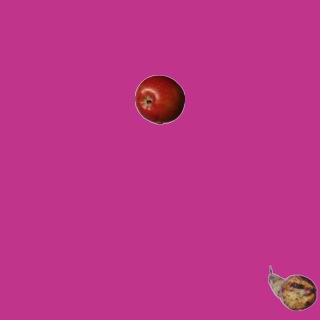Apple Braeburn: (134, 74, 184, 124)
Pear Abate: (267, 263, 317, 313)
